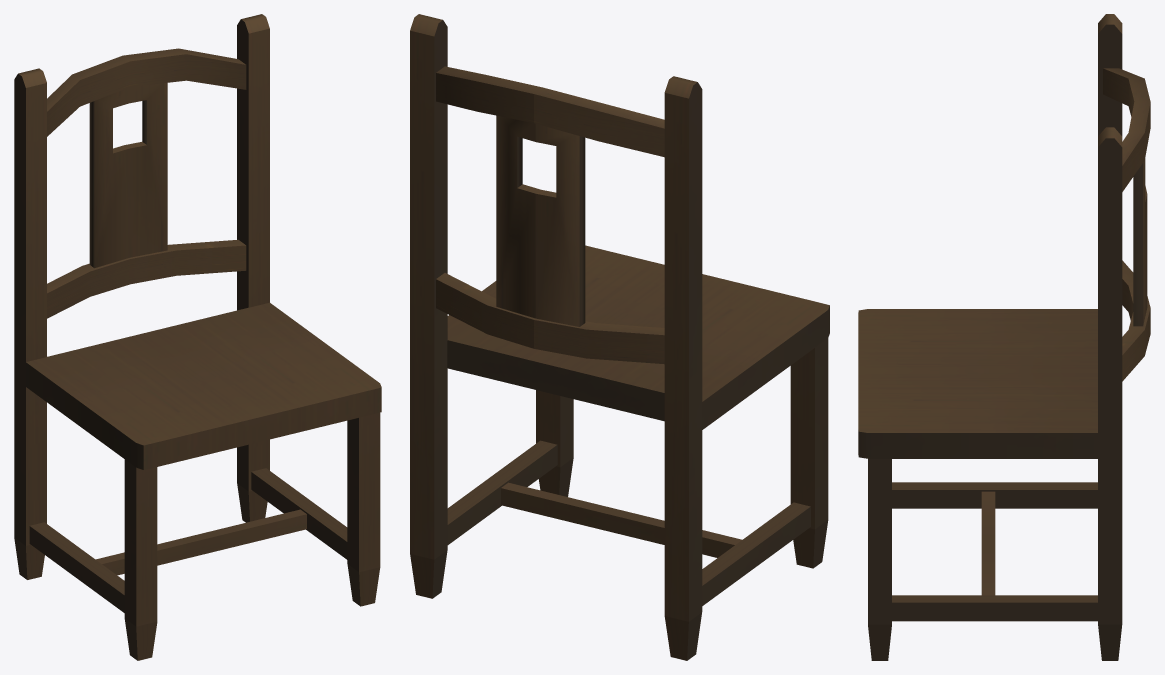
File: SK_Chair_001.FBX
3 views of the same model, side by side, from view 1: azimuth 30°, elevation 25°; view 2: azimuth 150°, elevation 25°; view 3: azimuth 270°, elevation 25° (orthographic). The views are drawn at different scales.
Parts seen in each view (by area): view 1: SK_Chair_001; view 2: SK_Chair_001; view 3: SK_Chair_001.
Boxes of the visible parts, x1,y1,x2,y2 form: SK_Chair_001: (14,14,381,660); SK_Chair_001: (410,14,829,660); SK_Chair_001: (858,14,1150,660).
Size of the model in its own units: 39.94 by 78.67 by 39.72.
